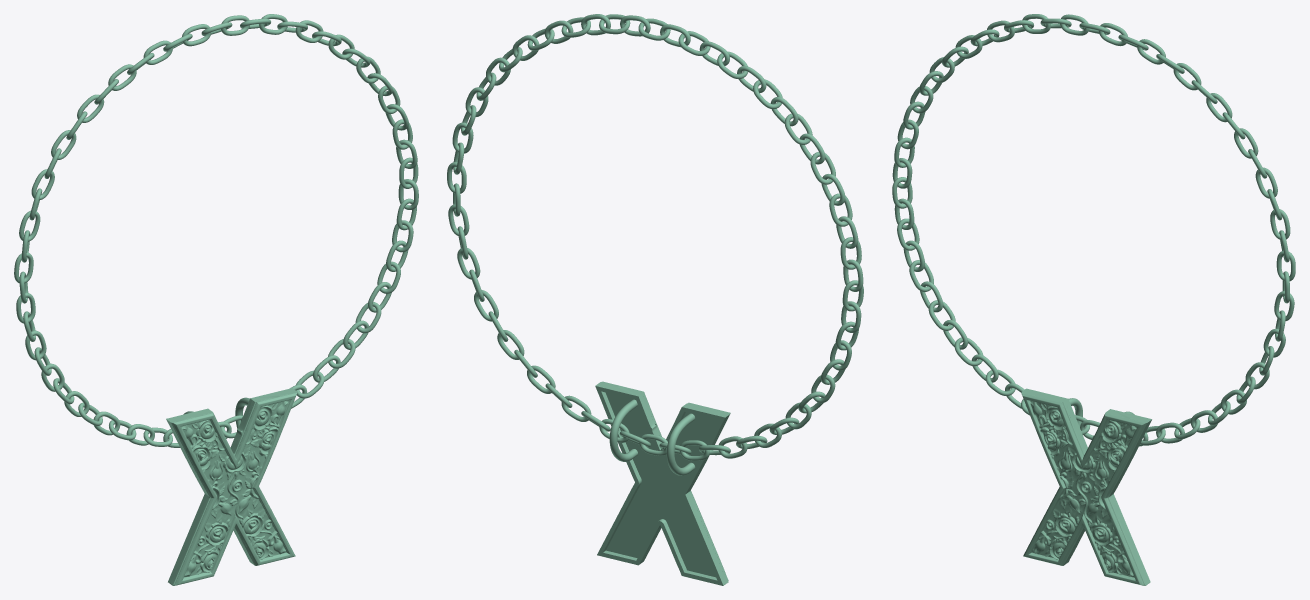
3 renders of one model, left to right at view 1: azimuth 30°, elevation 25°; view 2: azimuth 150°, elevation 25°; view 3: azimuth 330°, elevation 25°, orthographic. The views are drawn at different scales.
Parts seen in each view (by area): view 1: Pingente Alfabeto3 Letra X Render.3dm, object 2; view 2: Pingente Alfabeto3 Letra X Render.3dm, object 2; view 3: Pingente Alfabeto3 Letra X Render.3dm, object 2.
Boxes of the visible parts, box(x1,y1,x2,y2) form: Pingente Alfabeto3 Letra X Render.3dm: box(14, 14, 418, 447); object 2: box(166, 388, 297, 585); Pingente Alfabeto3 Letra X Render.3dm: box(447, 14, 863, 460); object 2: box(595, 381, 730, 585); Pingente Alfabeto3 Letra X Render.3dm: box(892, 14, 1295, 446); object 2: box(1021, 388, 1151, 585).
Size of the model in its own units: 2.45 by 3.15 by 0.282.
